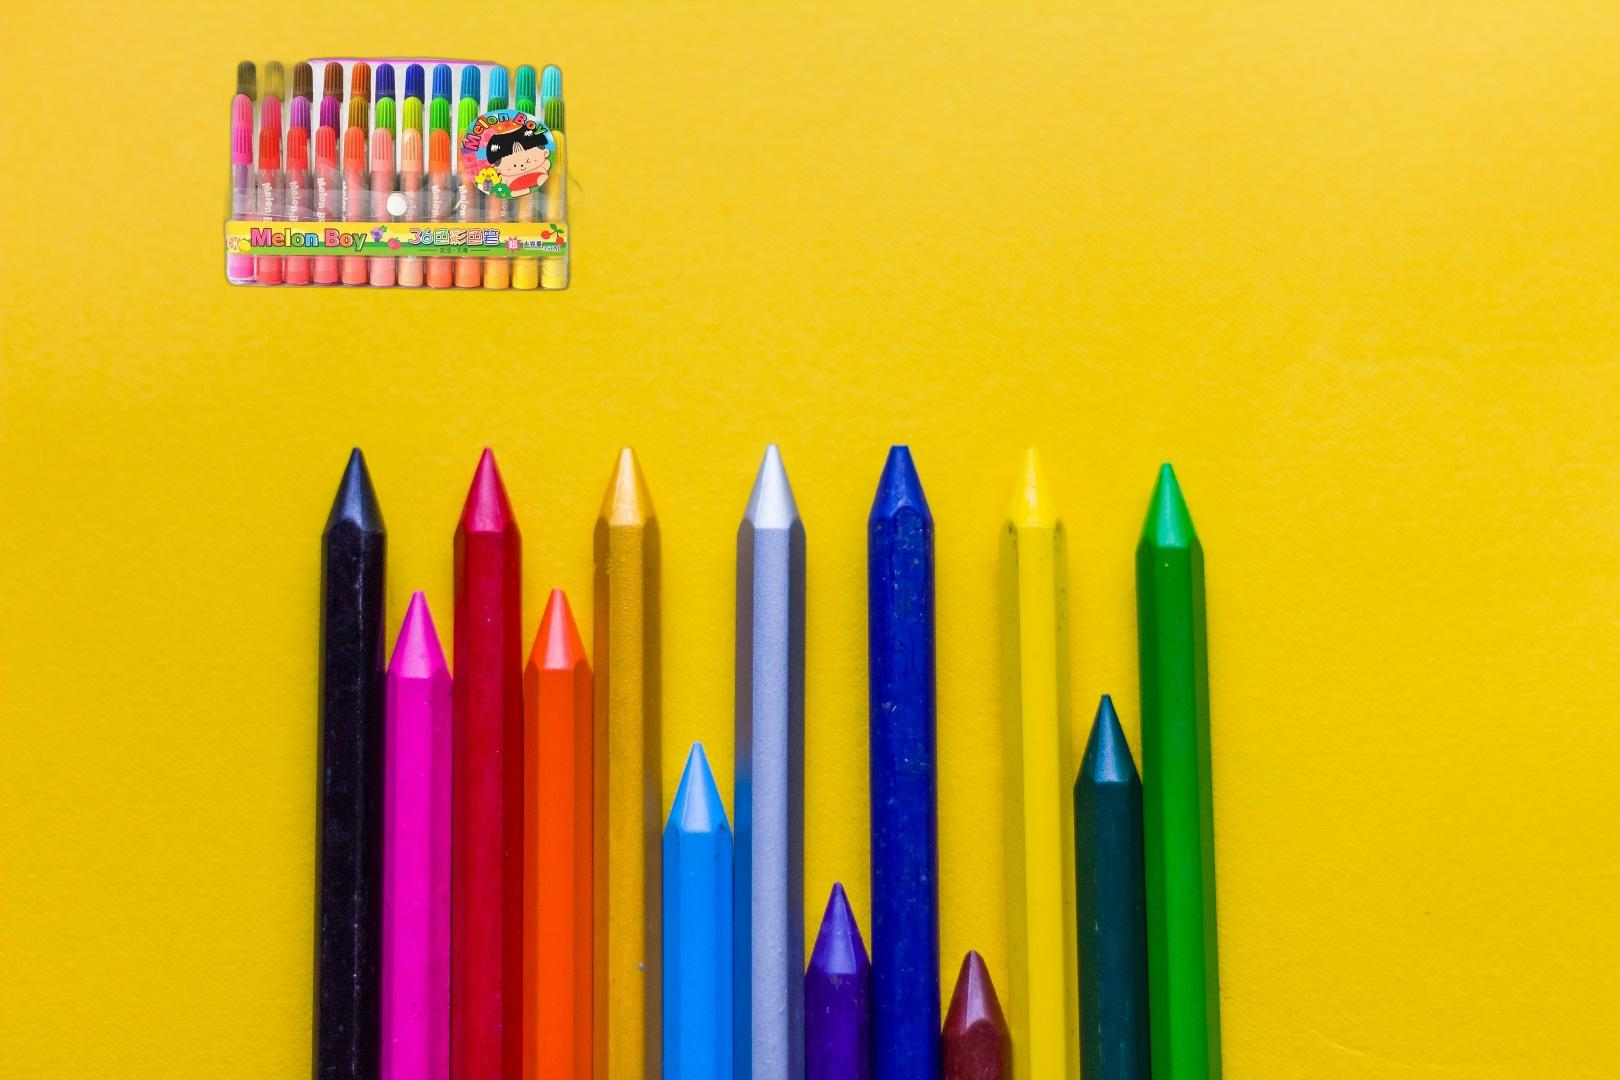penholder: (216, 54, 586, 299)
